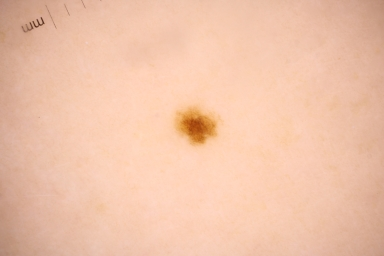nevus: (176, 109, 216, 141)
